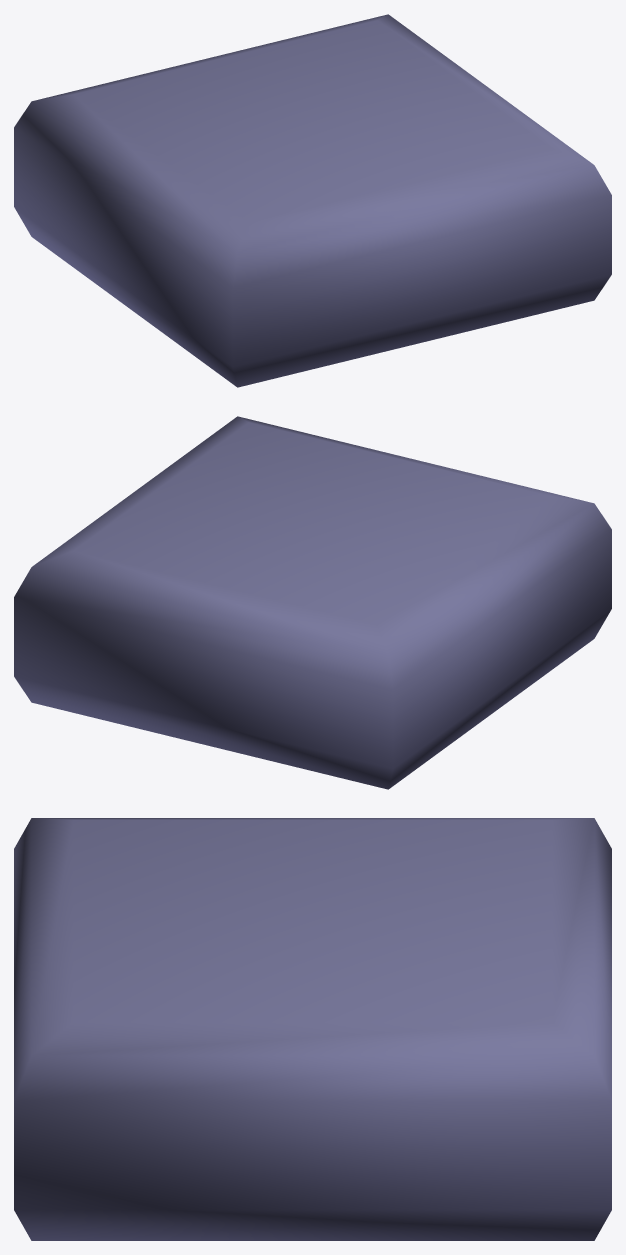
Rendered from conveyor-sides-cross.glb.
3 renders of one model, top to bottom at view 1: azimuth 30°, elevation 25°; view 2: azimuth 150°, elevation 25°; view 3: azimuth 270°, elevation 25°, orthographic. The views are drawn at different scales.
Parts seen in each view (by area): view 1: conveyor-sides-cross; view 2: conveyor-sides-cross; view 3: conveyor-sides-cross.
Boxes of the visible parts, <box> form: conveyor-sides-cross: <box>14,14,611,387</box>; conveyor-sides-cross: <box>14,416,611,789</box>; conveyor-sides-cross: <box>14,818,611,1240</box>.
Bounding box in the file's own units: 1 × 0.4 × 1.
1 material, 1 textured.
